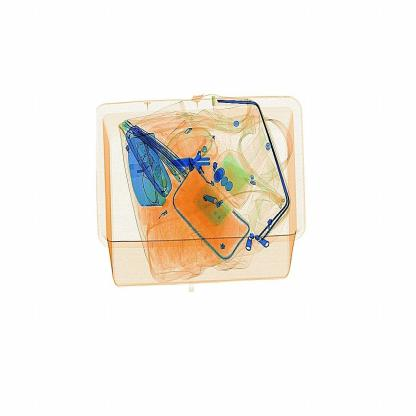gun: (158, 137, 226, 185)
